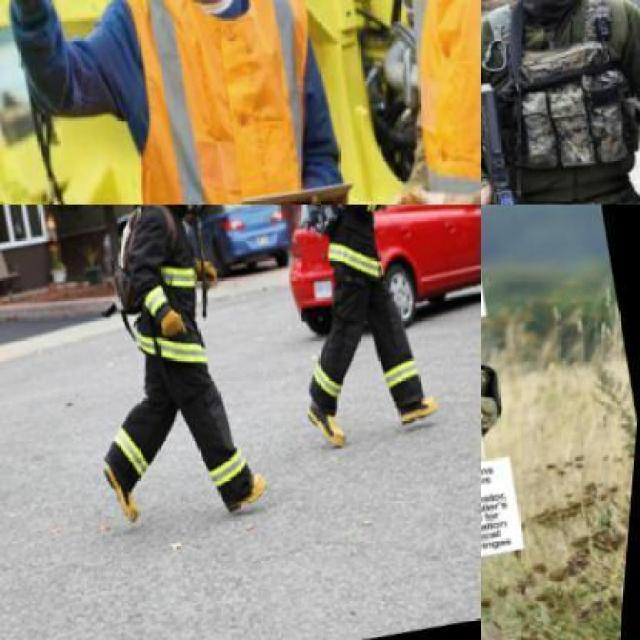vest: (80, 0, 417, 203), (480, 0, 638, 203), (354, 0, 478, 203), (100, 205, 235, 369), (290, 205, 422, 302)
